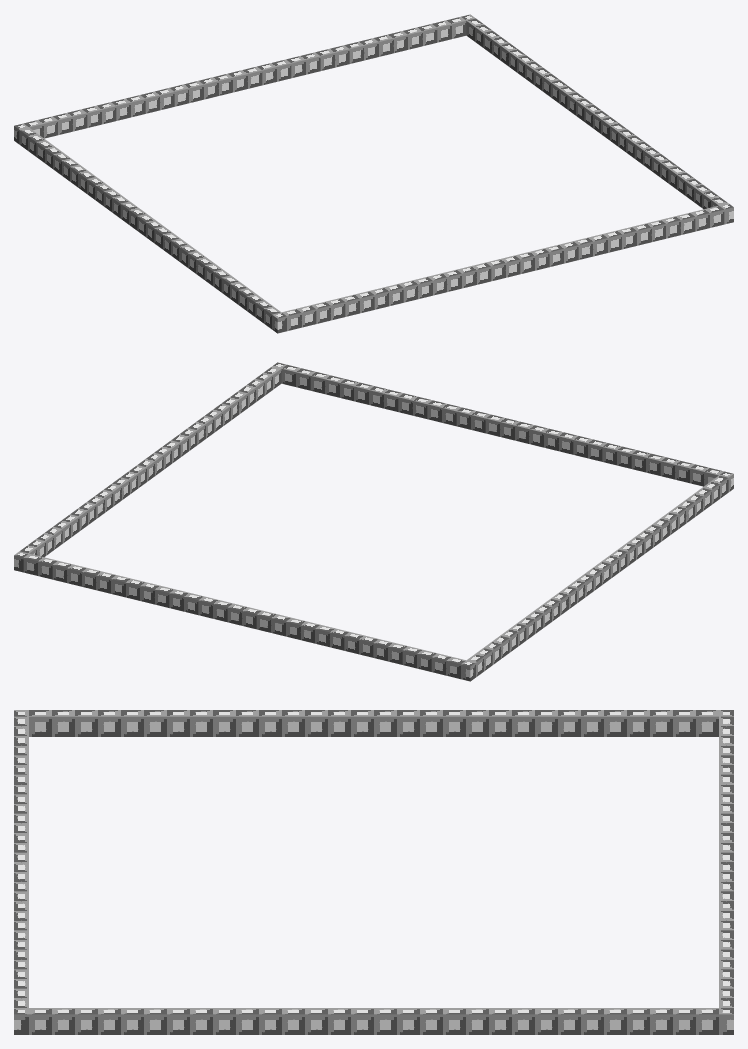
File: ParedesLab.obj
3 views of the same model, one above another, from view 1: azimuth 30°, elevation 25°; view 2: azimuth 150°, elevation 25°; view 3: azimuth 270°, elevation 25° (orthographic). The views are drawn at different scales.
Visible parts, largest first — view 1: Paredes; view 2: Paredes; view 3: Paredes.
Boxes of the visible parts, x1,y1,x2,y2 form: Paredes: [14, 14, 733, 333]; Paredes: [14, 362, 733, 681]; Paredes: [14, 710, 733, 1034].
Bounding box in the file's own units: 1 × 0.0312 × 1.
Materials: 1 (1 with a texture image).
